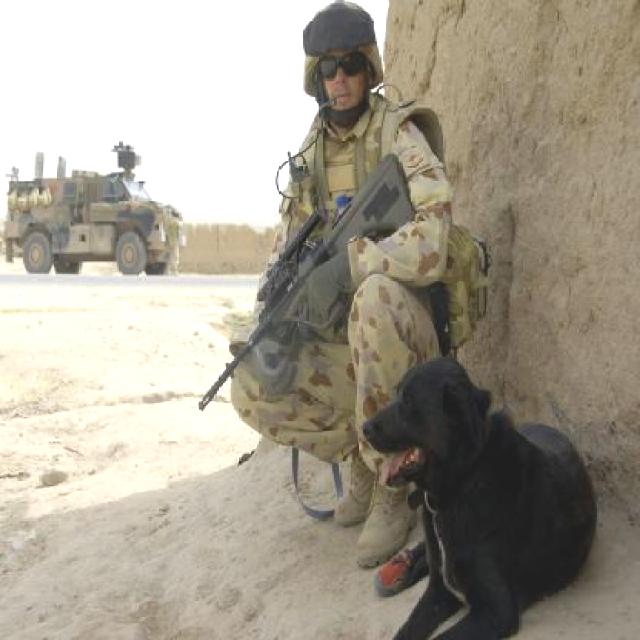face_nomask: (317, 53, 363, 113)
glasses: (300, 38, 378, 82)
head_helmet: (298, 0, 377, 65)
person: (226, 11, 459, 572)
shoes: (351, 463, 420, 574)
